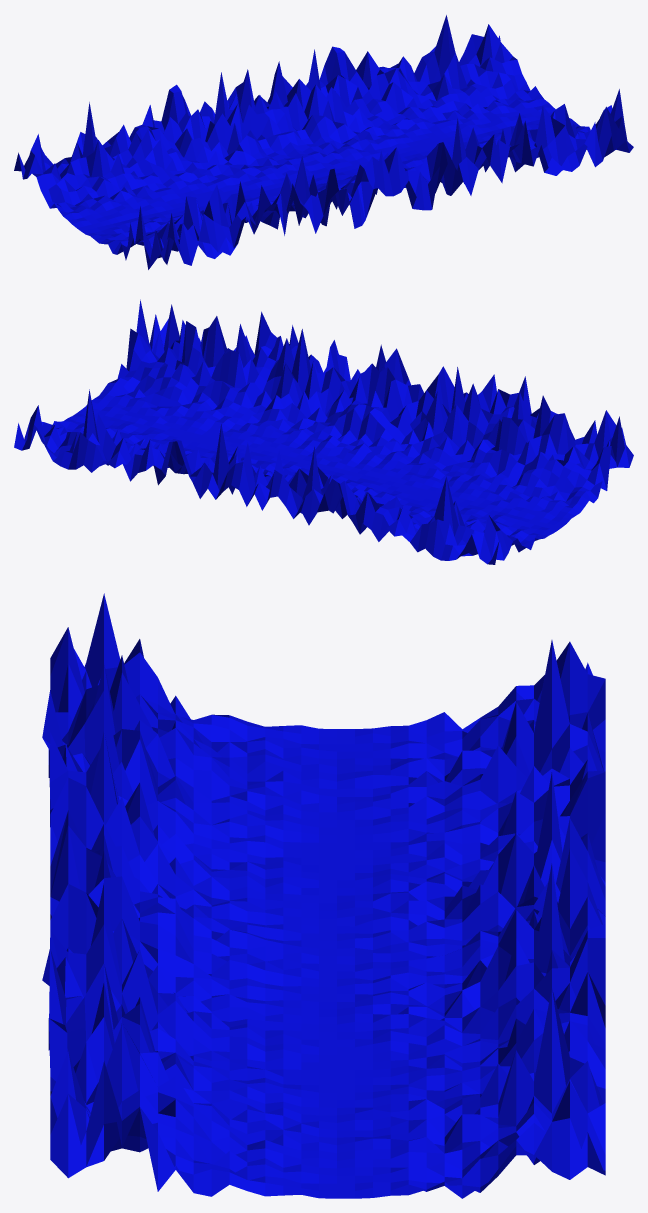
Rendered from neon.gltf.
3 renders of one model, top to bottom at view 1: azimuth 30°, elevation 25°; view 2: azimuth 150°, elevation 25°; view 3: azimuth 270°, elevation 25°, orthographic. The views are drawn at different scales.
Visible parts, largest first — view 1: Плоскость.001; view 2: Плоскость.001; view 3: Плоскость.001.
Part boxes in pixels (<box>): Плоскость.001: <box>14,15,633,269</box>; Плоскость.001: <box>14,299,633,564</box>; Плоскость.001: <box>42,593,605,1198</box>.
Bounding box in the file's own units: 128 × 20.91 × 64.94.
